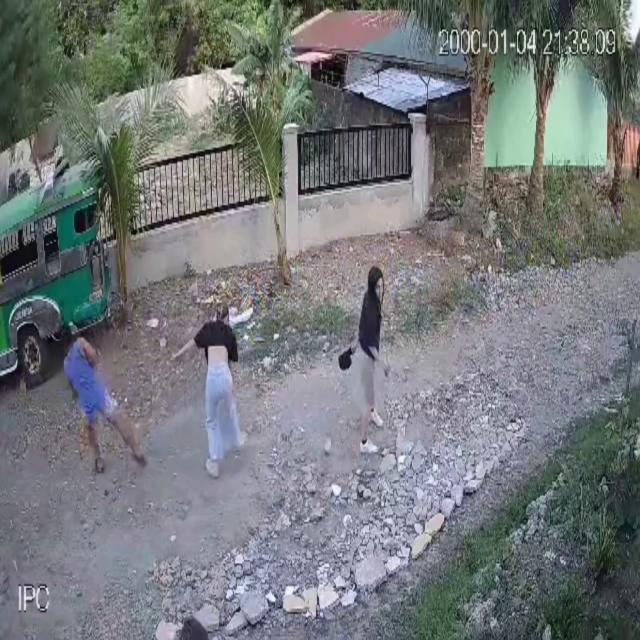running: (56, 316, 149, 482)
walking: (334, 267, 395, 459)
